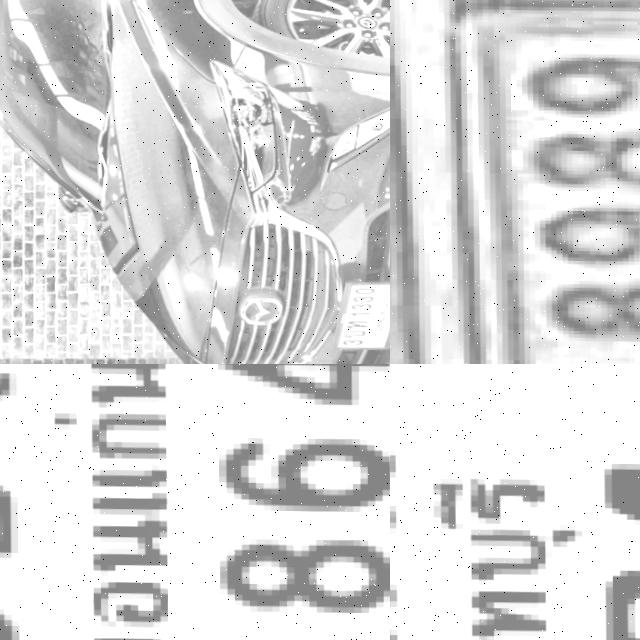license-plate: (0, 364, 390, 640), (428, 0, 640, 364), (390, 364, 640, 640), (331, 275, 390, 347)
